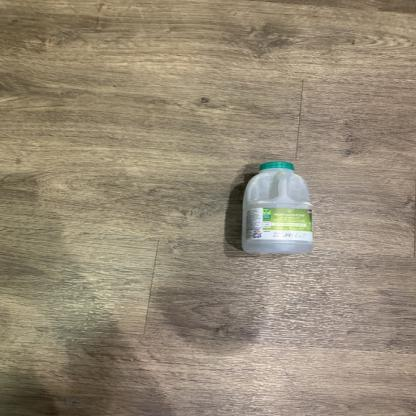trash: (240, 160, 316, 258)
